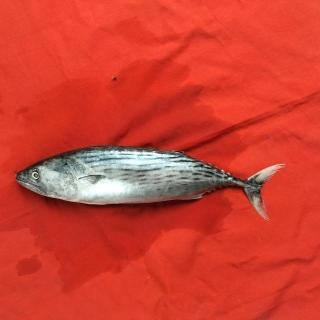Ikan: (16, 141, 292, 232)
